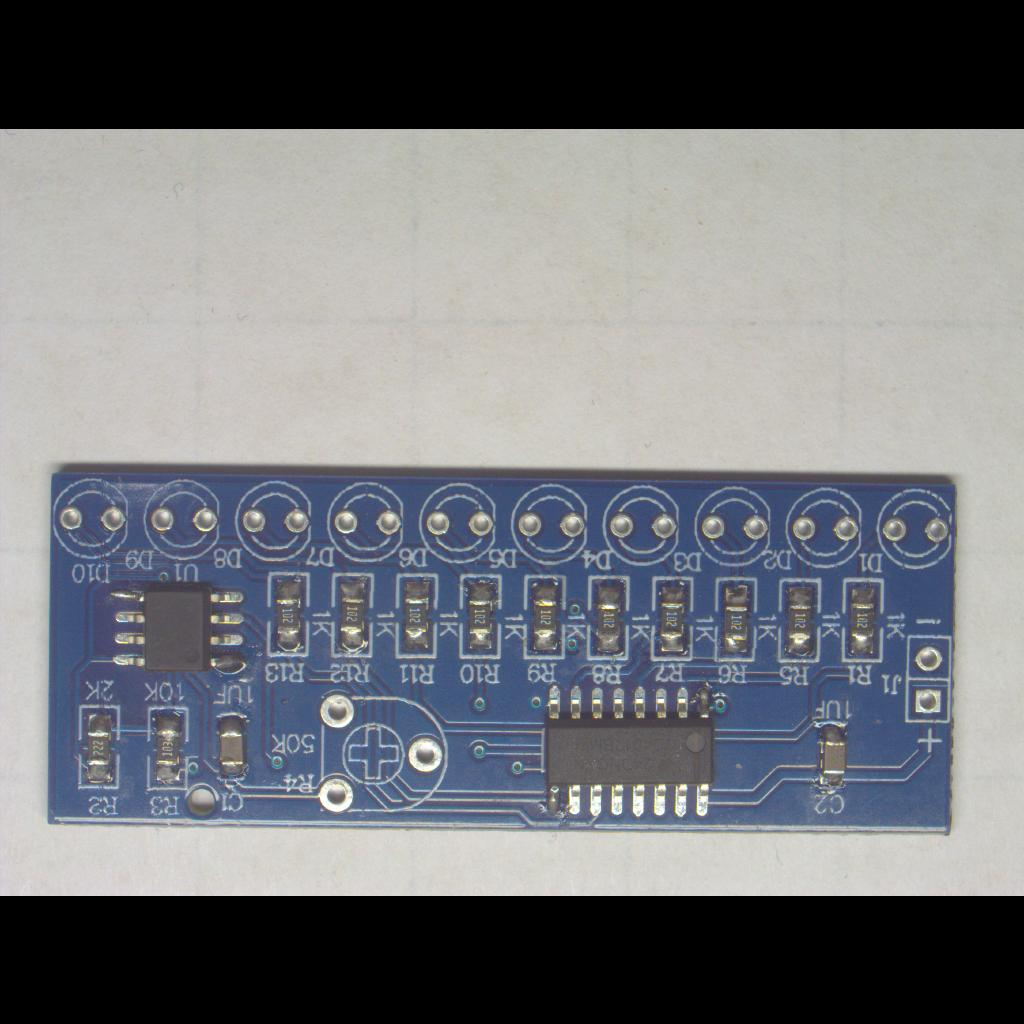OK: (540, 677, 724, 825), (102, 578, 254, 678), (776, 578, 826, 668), (394, 571, 442, 663), (650, 574, 700, 662), (520, 573, 570, 661), (712, 576, 760, 666), (586, 572, 634, 662), (328, 571, 376, 659), (264, 571, 312, 657), (808, 716, 858, 798), (78, 702, 122, 792), (458, 572, 504, 658), (144, 702, 188, 788), (842, 576, 884, 666), (210, 708, 254, 786)
